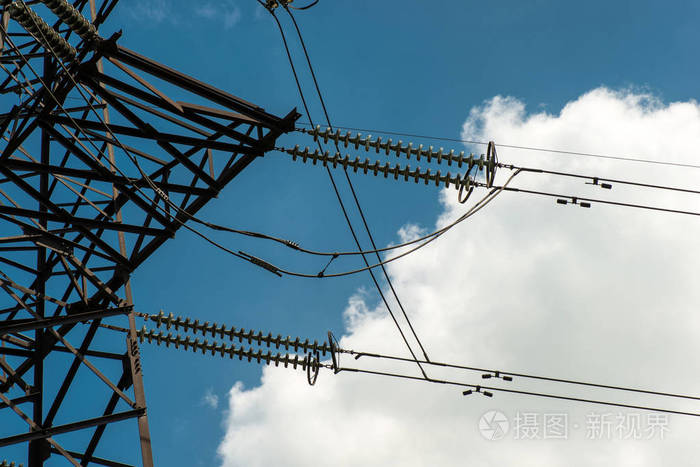insulator: (297, 123, 488, 191), (142, 311, 330, 375), (5, 1, 93, 61)
